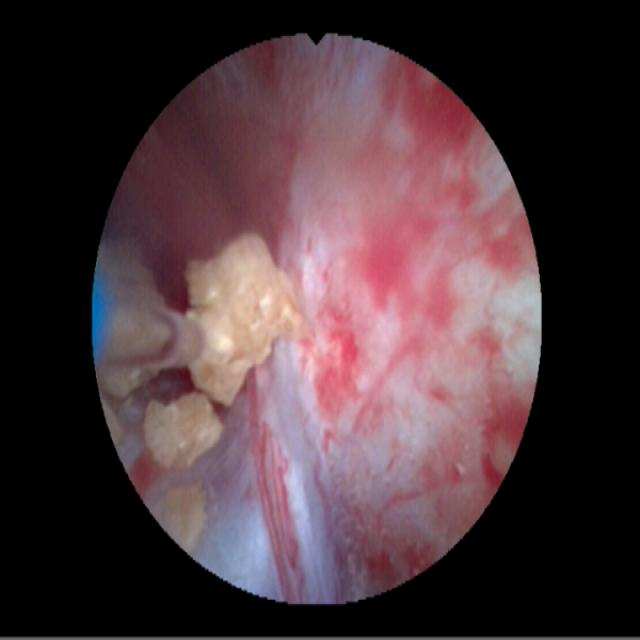fiber: (94, 270, 109, 361)
stone: (183, 239, 306, 404), (104, 244, 181, 441), (144, 393, 222, 466), (164, 487, 204, 545)
tissue: (113, 41, 527, 595)
